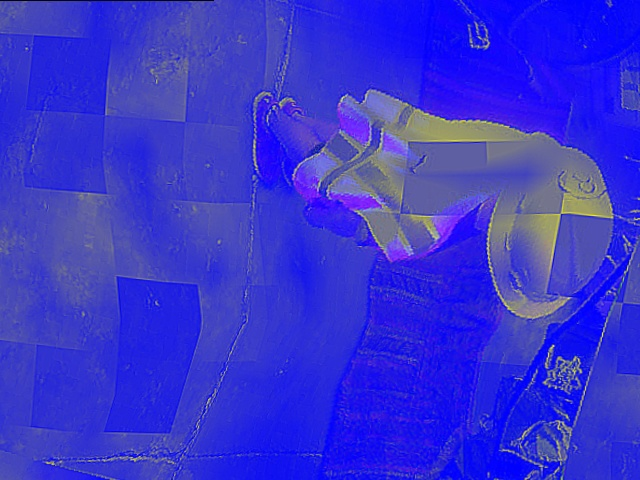eight: (550, 161, 614, 205)
